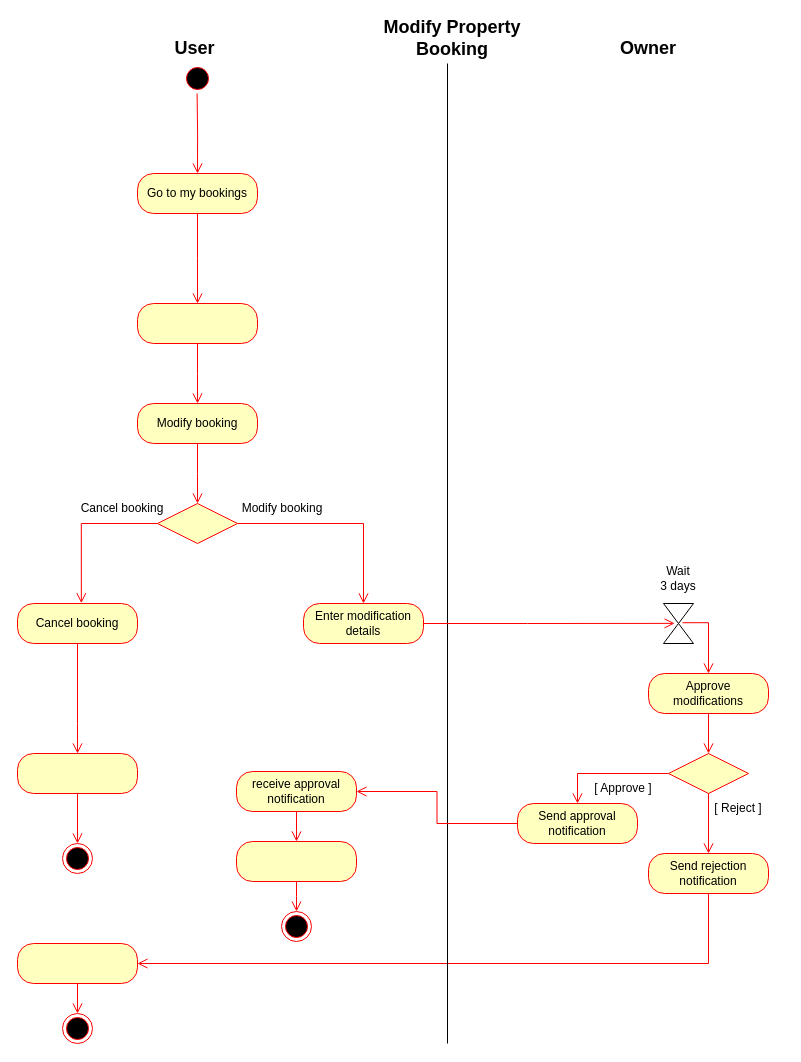
Some shapes in this 801 by 1062 pixel diagram are drawn without their labels. The box of each missing label's shape, as (x1, y1, x2, y2) in pixels:
Choose booking: (136, 302, 258, 344)
receive rejection notification: (16, 942, 138, 984)
Refund booking payment: (16, 752, 138, 794)
Save modifications: (236, 840, 356, 882)
